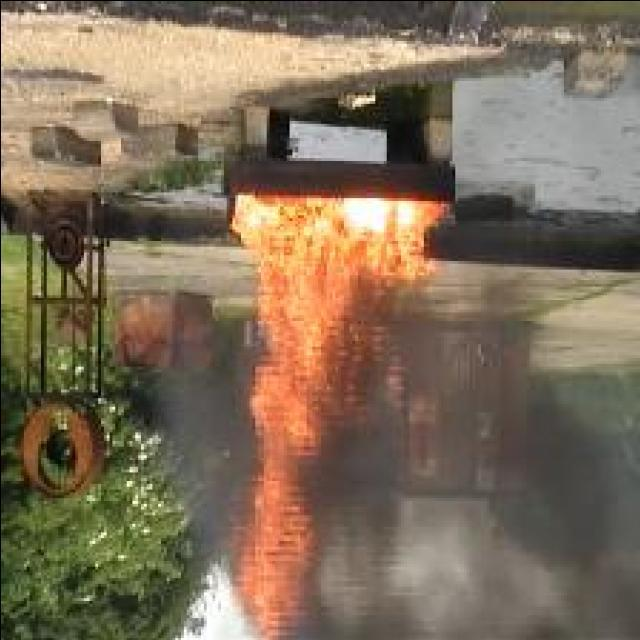Fire: (230, 192, 453, 638)
